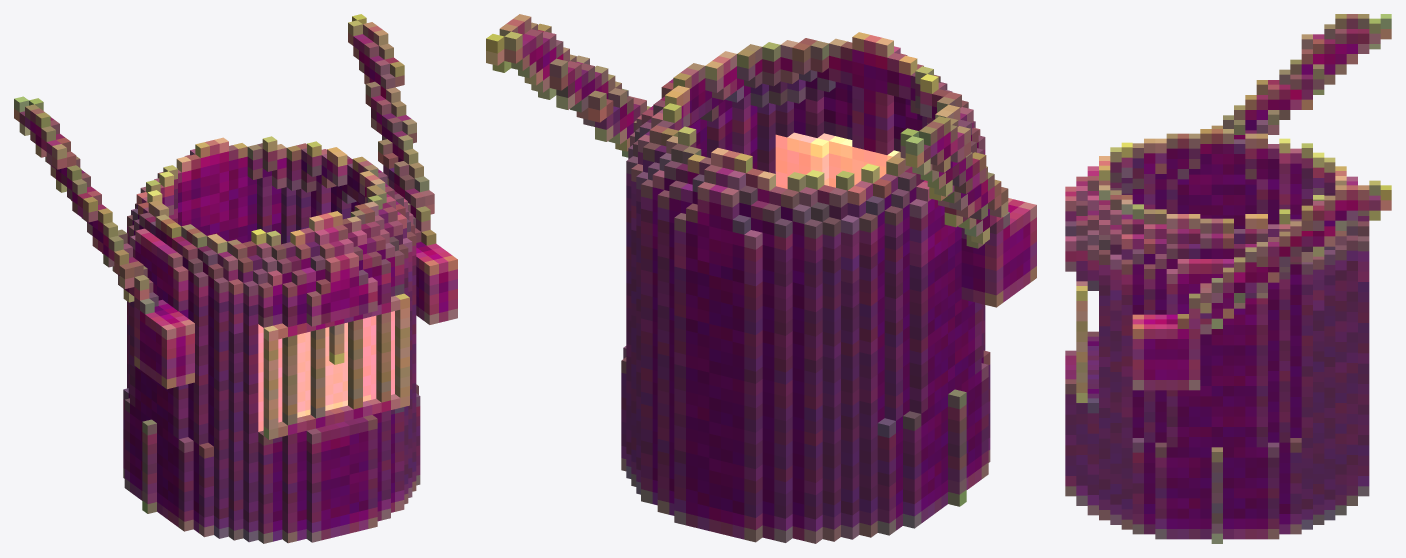
Rendered from armor_set1_head.glb.
The picture shows the model from 3 angles, left to right: view 1: azimuth 30°, elevation 25°; view 2: azimuth 150°, elevation 25°; view 3: azimuth 270°, elevation 25°; orthographic projection. The views are drawn at different scales.
Visible parts, largest first — view 1: Set1_WingedEmberBarbute_7mm; view 2: Set1_WingedEmberBarbute_7mm; view 3: Set1_WingedEmberBarbute_7mm.
Part boxes in pixels (<box>): Set1_WingedEmberBarbute_7mm: <box>14,14,457,543</box>; Set1_WingedEmberBarbute_7mm: <box>486,14,1036,543</box>; Set1_WingedEmberBarbute_7mm: <box>1065,14,1391,543</box>.
Bounding box in the file's own units: 0.259 × 0.259 × 0.203.
